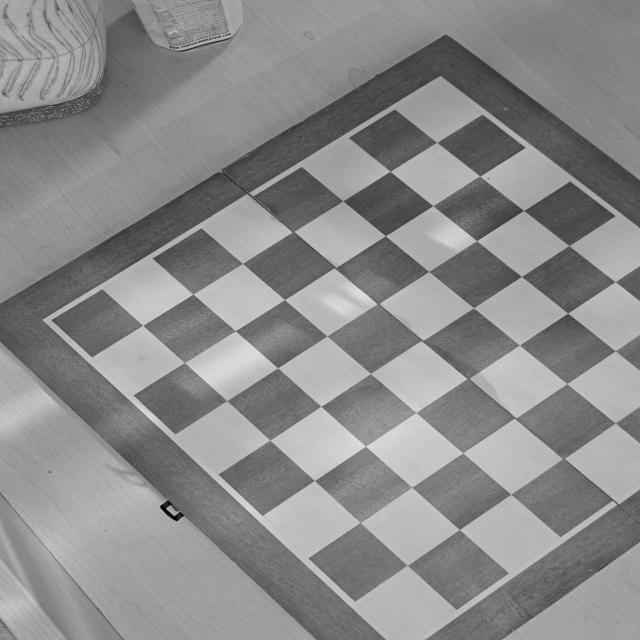chess-table-corners: (429, 75, 452, 91), (41, 313, 62, 328)
